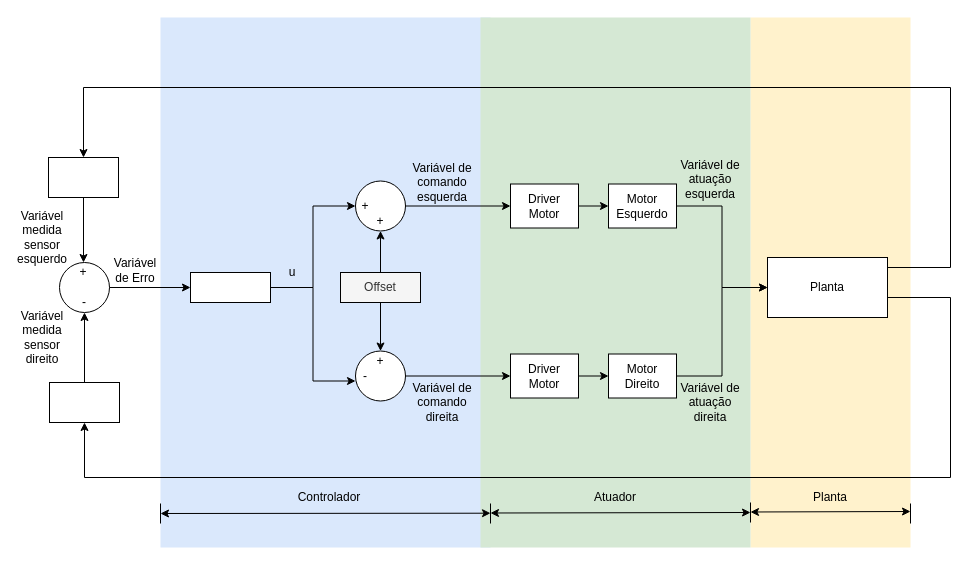
The diagram is 976 pixels wide and 564 high, and some of its shapes have lost their labels. Here are the shapes that lost their labels. From the top down, the centre of each, then its label:
(x=83, y=177): Sensor Esquerdo
(x=230, y=287): PID
(x=84, y=402): Sensor Direito
